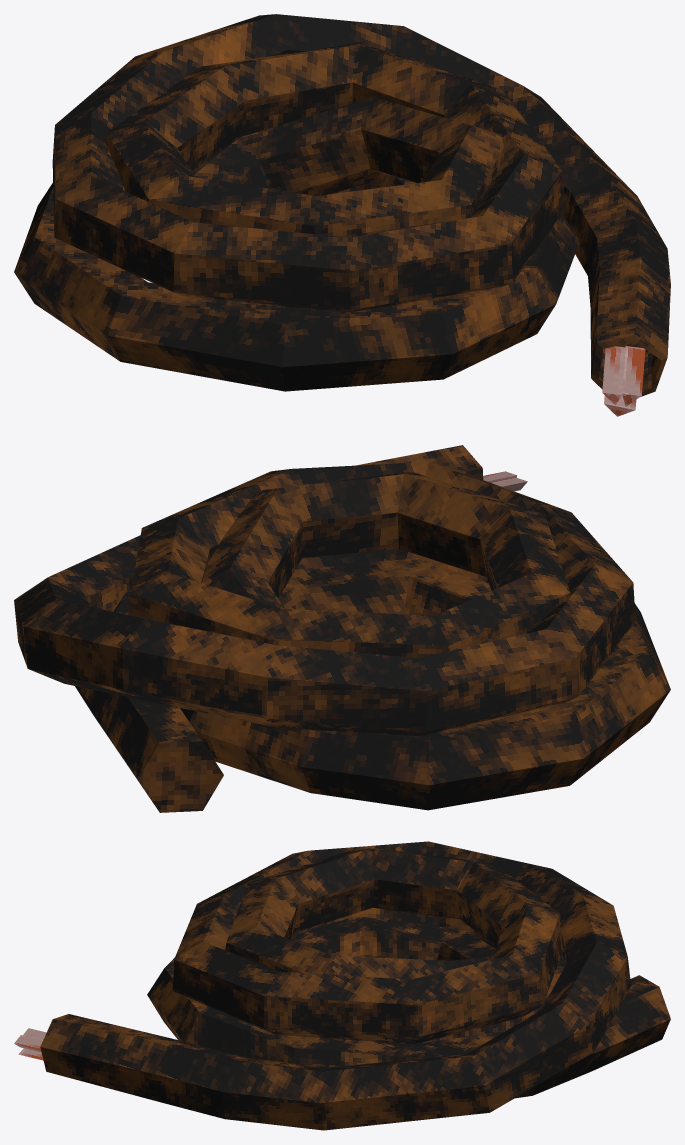
Rendered from NetworkCable.glb.
The picture shows the model from 3 angles, top to bottom: view 1: azimuth 30°, elevation 25°; view 2: azimuth 150°, elevation 25°; view 3: azimuth 270°, elevation 25°; orthographic projection. The views are drawn at different scales.
Parts seen in each view (by area): view 1: BezierCurve, BezierCurve.001; view 2: BezierCurve, BezierCurve.001; view 3: BezierCurve, BezierCurve.001.
Part boxes in pixels (x1=…): BezierCurve: x1=14, y1=14, x2=670, y2=396; BezierCurve.001: x1=602, y1=346, x2=645, y2=416; BezierCurve: x1=14, y1=445, x2=670, y2=812; BezierCurve.001: x1=483, y1=471, x2=527, y2=491; BezierCurve: x1=40, y1=841, x2=670, y2=1130; BezierCurve.001: x1=14, y1=1028, x2=46, y2=1060.
Bounding box in the file's own units: 0.2967 × 0.0814 × 0.384.
Materials: 1 (1 with a texture image).
